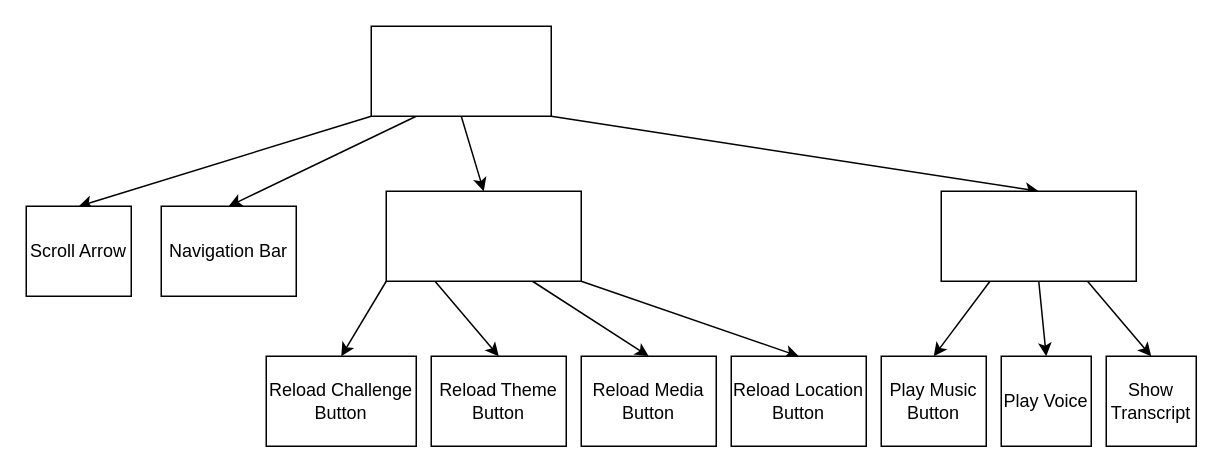
The diagram is 1223 pixels wide and 473 high, and some of its shapes have lost their labels. The shapes that lost their labels are listed below. From the top down, each one's centre as x and y in pixels, then its label:
point 460,70: App
point 483,235: Artists Studio
point 1038,235: Music Massage
